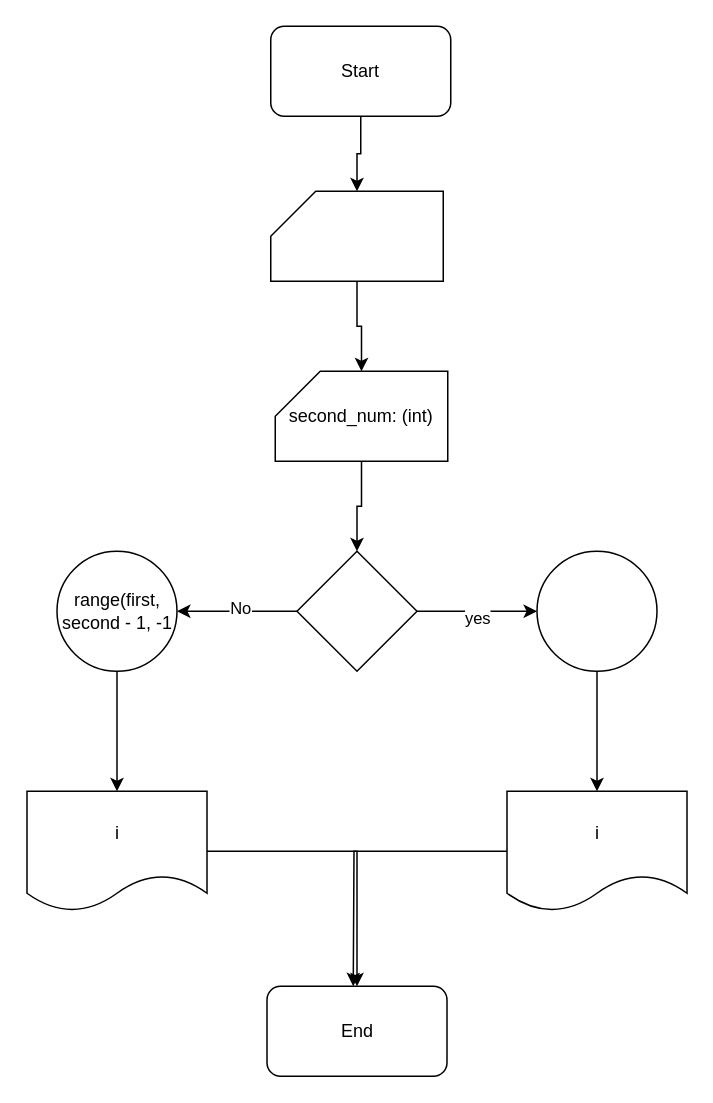
This 713x1103 diagram has some shape labels left out. Each missing label, with the box of its shape:
first_num < second_num: (296, 550, 417, 671)
first_num: (int): (269, 190, 443, 281)
range(first, second + 1): (536, 550, 657, 671)
